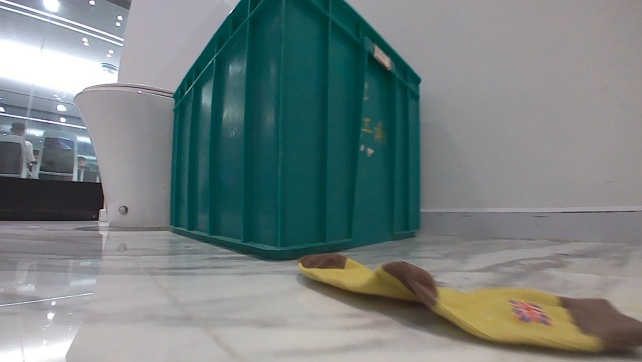socks: (296, 247, 641, 358)
toilet: (73, 80, 178, 231)
